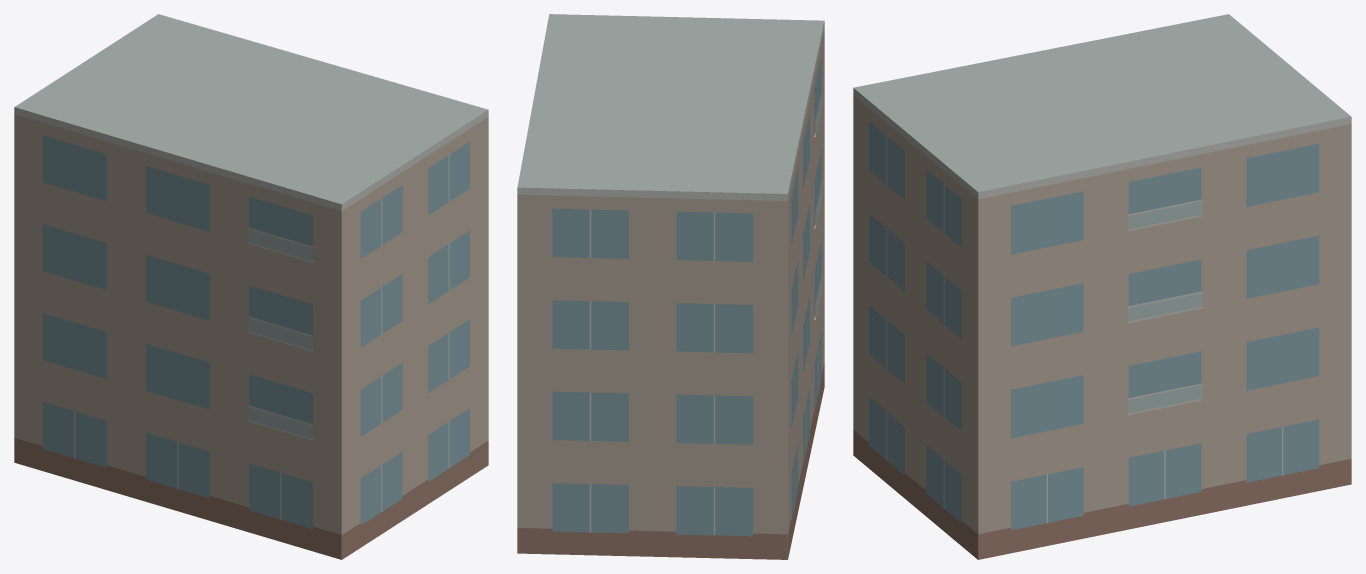
The model's file is survey-upis-32741624.glb.
The picture shows the model from 3 angles, left to right: view 1: azimuth 30°, elevation 25°; view 2: azimuth 150°, elevation 25°; view 3: azimuth 270°, elevation 25°; orthographic projection. The views are drawn at different scales.
Visible parts, largest first — view 1: survey-upis-32741624.tmp; view 2: survey-upis-32741624.tmp; view 3: survey-upis-32741624.tmp.
Part boxes in pixels (<box>): survey-upis-32741624.tmp: <box>14,14,488,559</box>; survey-upis-32741624.tmp: <box>517,14,824,559</box>; survey-upis-32741624.tmp: <box>853,14,1351,559</box>.
Bounding box in the file's own units: 13.1 × 12.6 × 15.49.
